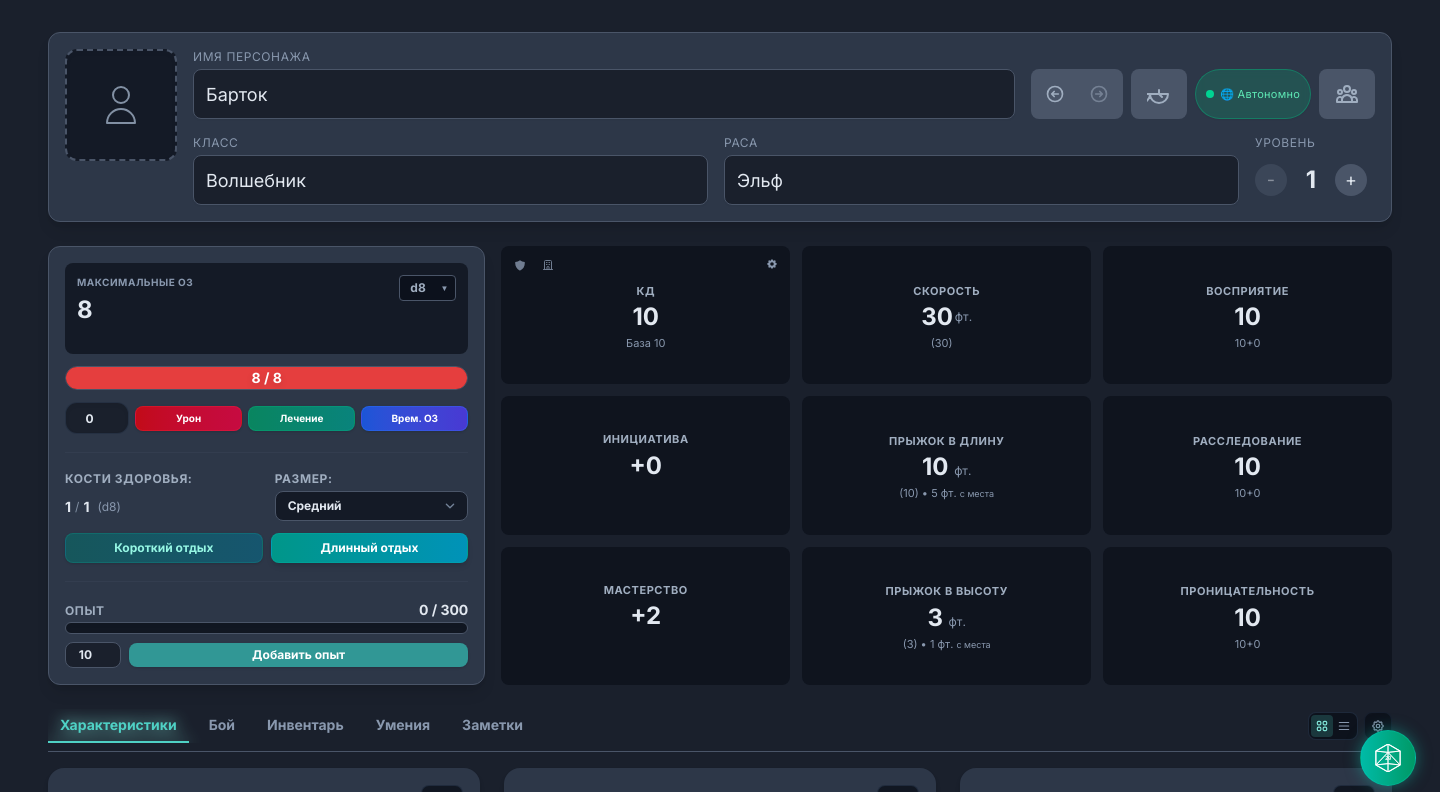
Test: CharacterSheet (smoke after split) › FAB кубика открывает DiceRollerModal через SheetModals (ленивая загрузка)
The image size is (1440, 792).
Expected: the text "Универсальный бросок кубиков" is not shown
What coordinates should you click on to do the following:
click the button named "Открыть универсальный бросок кубиков"
I would click on:
 (1388, 758)
Its box is [1360, 730, 1416, 786].
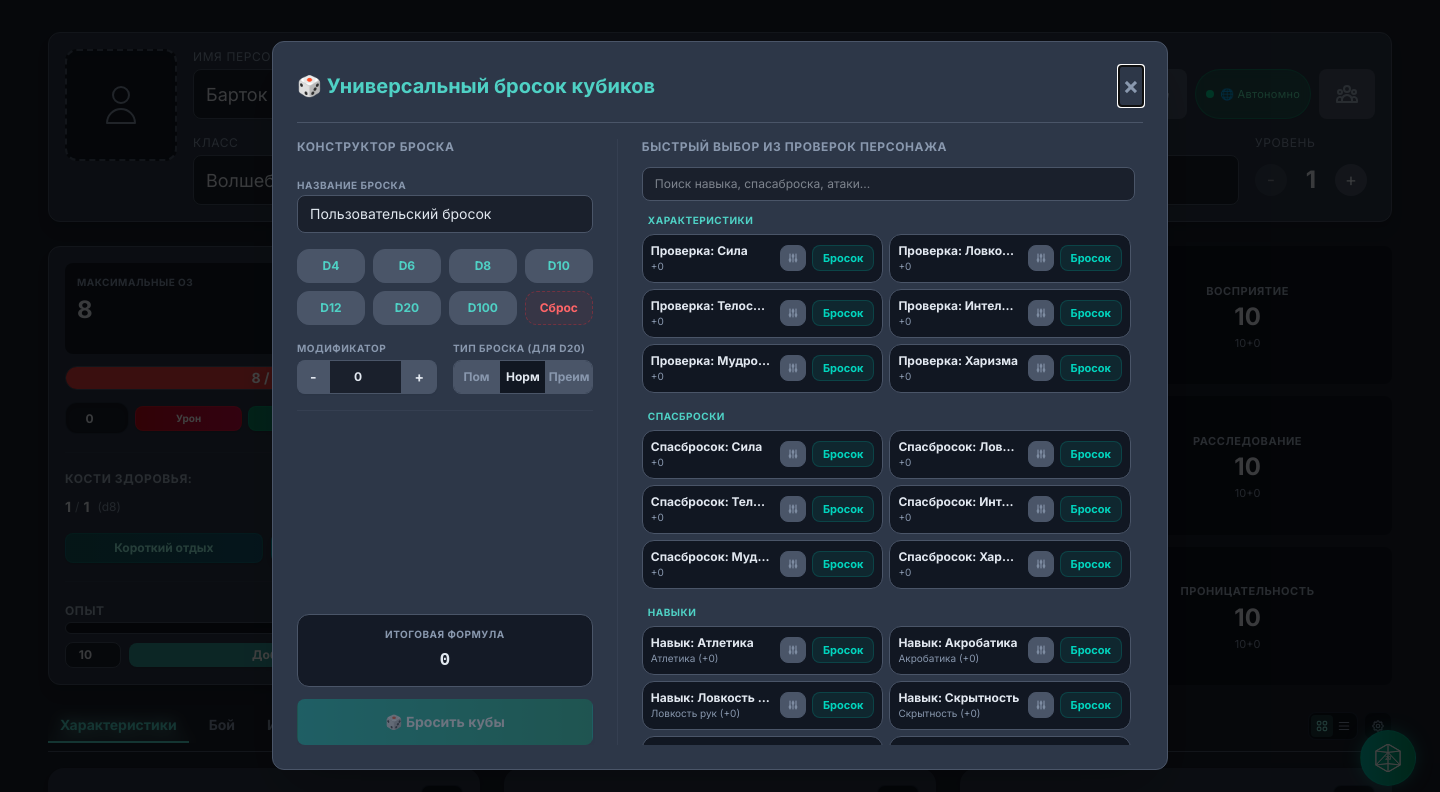
Expected: the heading "🎲 Универсальный бросок кубиков" is shown, [297, 72, 655, 100]
